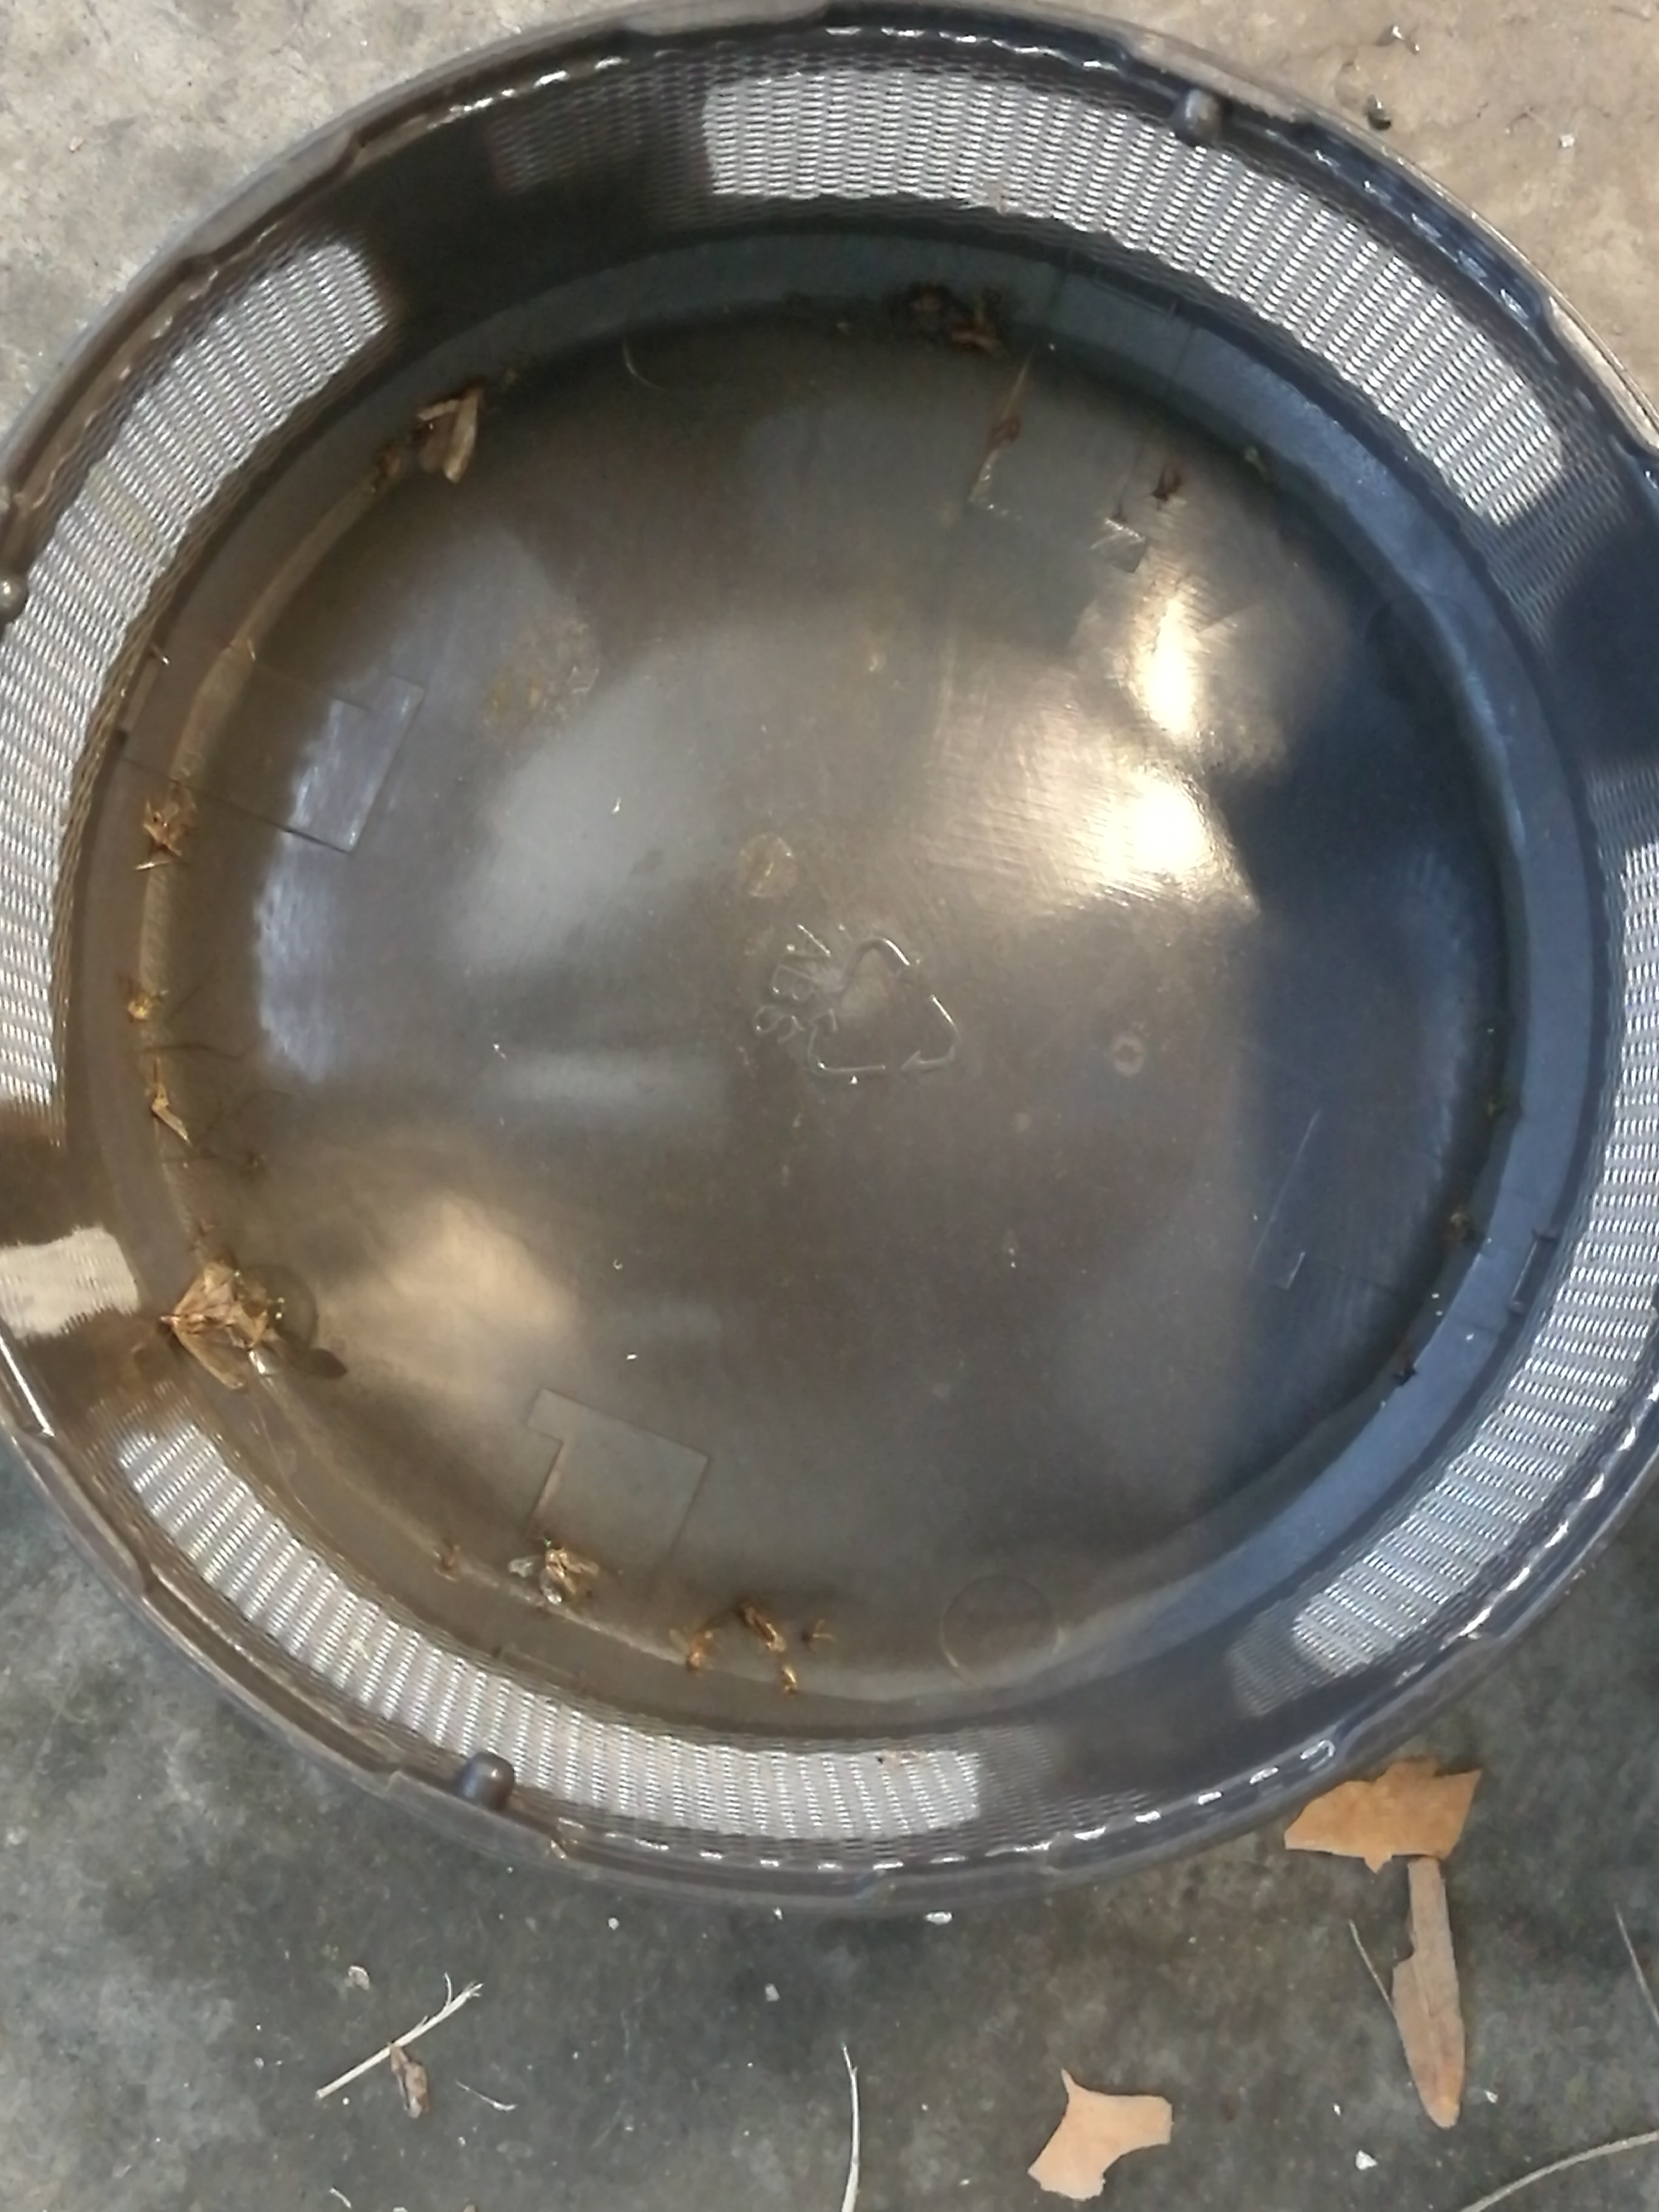moth: (174, 1263, 240, 1386), (418, 380, 481, 482), (512, 1550, 599, 1601)
